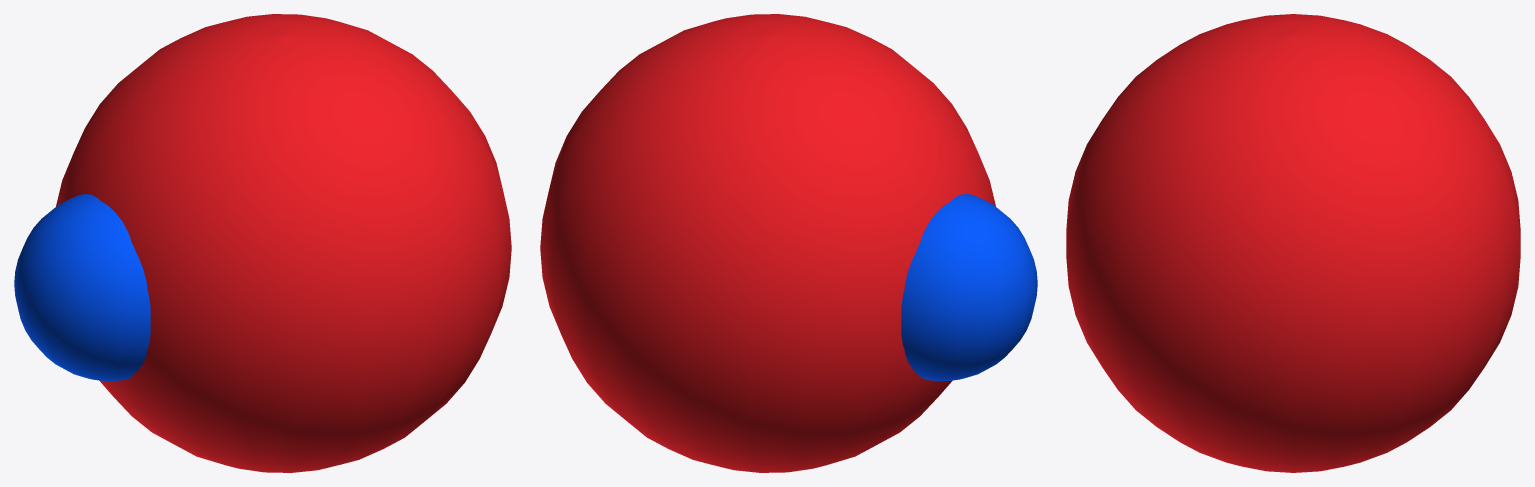
Rendered from HCl.fbx.
The picture shows the model from 3 angles, left to right: view 1: azimuth 30°, elevation 25°; view 2: azimuth 150°, elevation 25°; view 3: azimuth 270°, elevation 25°; orthographic projection.
Parts seen in each view (by area): view 1: Сферы_Node (×2); view 2: Сферы_Node (×2); view 3: Сферы_Node.
Part boxes in pixels (bbox=[...]): Сферы_Node (×2): bbox=[14, 14, 511, 472]; Сферы_Node (×2): bbox=[540, 14, 1037, 472]; Сферы_Node: bbox=[1066, 14, 1520, 472].
Bounding box in the file's own units: 2.74 × 2.4 × 2.38.
2 materials, 2 textured.
